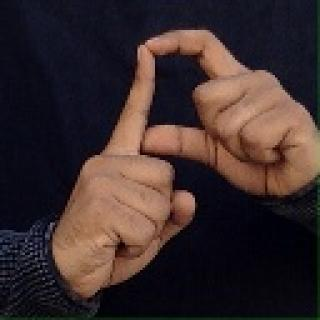D: (61, 25, 316, 285)
